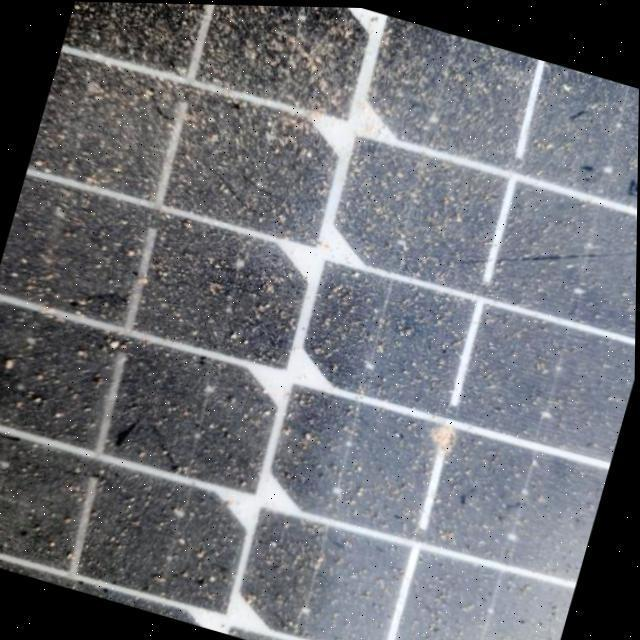Surface Contaminant: (0, 1, 639, 640)
